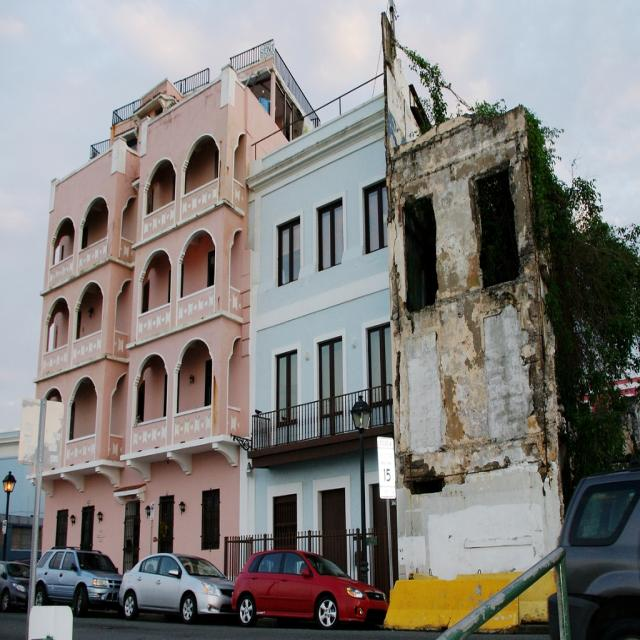car: (229, 540, 387, 627), (115, 549, 233, 619), (32, 541, 122, 612)
